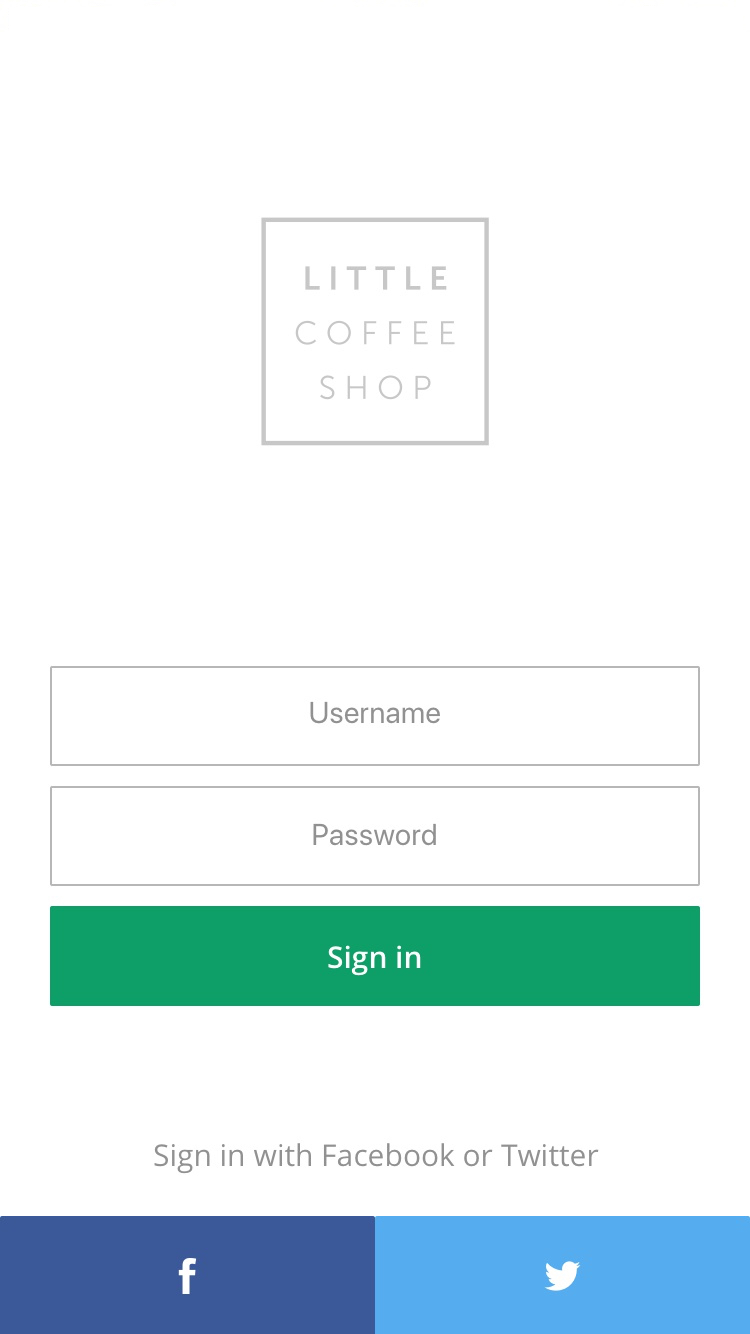EditText: (50, 666, 701, 767), (50, 786, 700, 887)
Image: (261, 218, 490, 446)
Text: (154, 1142, 599, 1174), (310, 702, 440, 725), (313, 824, 437, 847)
TextButton: (50, 906, 701, 1007), (1, 1216, 375, 1334), (376, 1216, 750, 1334)
